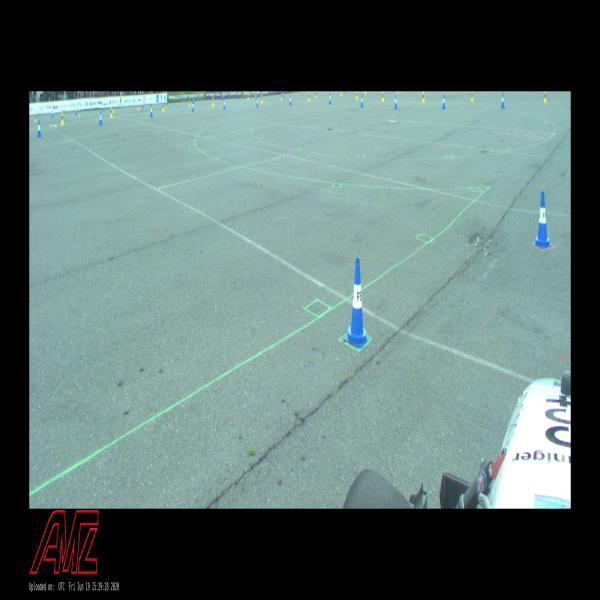blue_cone: (345, 258, 369, 347), (533, 191, 552, 247), (37, 120, 41, 137), (501, 92, 505, 108), (442, 94, 445, 109), (394, 95, 397, 109), (150, 104, 153, 117), (361, 95, 364, 107), (223, 99, 226, 109), (289, 95, 292, 105), (100, 111, 102, 124), (329, 92, 331, 103), (192, 101, 194, 112), (256, 97, 258, 107), (103, 104, 105, 112), (255, 93, 257, 100), (142, 101, 144, 108), (75, 108, 77, 114), (282, 91, 284, 97), (52, 110, 53, 118)
yellow_cone: (61, 112, 64, 124), (162, 102, 165, 112), (110, 107, 113, 117), (422, 92, 425, 102), (471, 91, 473, 102), (382, 91, 384, 102), (544, 92, 546, 102), (261, 94, 263, 104), (308, 91, 310, 101), (212, 96, 214, 106), (356, 91, 358, 100), (34, 113, 36, 122), (247, 92, 249, 100), (79, 109, 81, 117), (315, 91, 317, 98), (113, 106, 115, 112), (281, 92, 282, 100), (189, 99, 190, 106), (138, 103, 139, 110), (166, 102, 167, 108)
